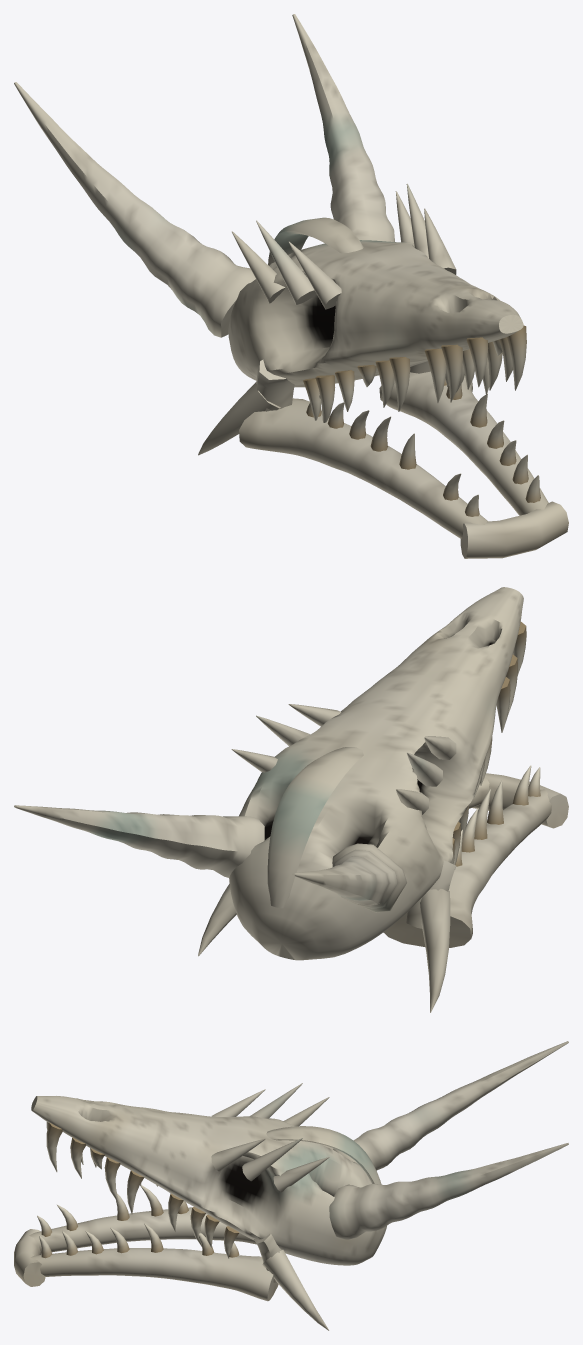
The model's file is giant_skull_lod0.glb.
The picture shows the model from 3 angles, top to bottom: view 1: azimuth 30°, elevation 25°; view 2: azimuth 150°, elevation 25°; view 3: azimuth 270°, elevation 25°; orthographic projection. The views are drawn at different scales.
Parts seen in each view (by area): view 1: GiantSkull; view 2: GiantSkull; view 3: GiantSkull.
Boxes of the visible parts, bbox=[...] form: GiantSkull: bbox=[14, 14, 568, 558]; GiantSkull: bbox=[14, 587, 568, 1012]; GiantSkull: bbox=[14, 1041, 568, 1330].
Bounding box in the file's own units: 7.27 × 6.48 × 16.59.
